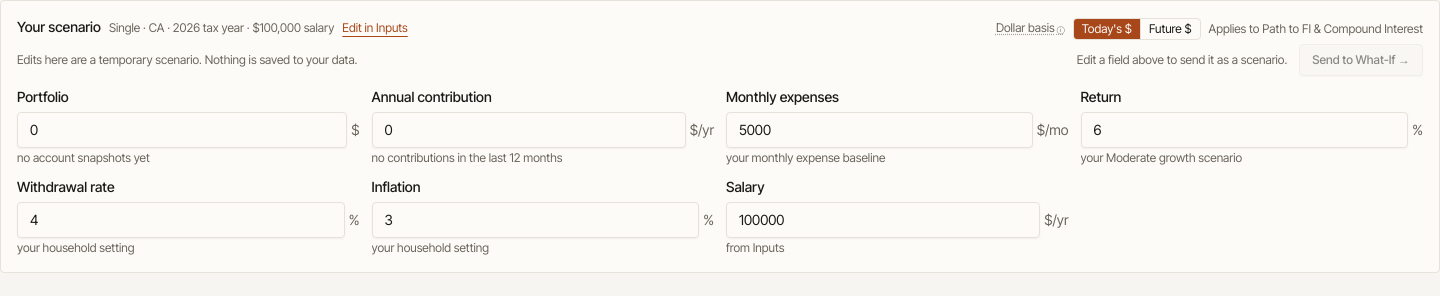
Scenario: ScenarioBar › an edited field shows the visible "edited — reset" text tag (never color-only) and the Edited (n) count
Step 1. Replace the text in the number field labelled "Monthly expenses" with "6500" → (879, 130), box [726,112,1033,148]
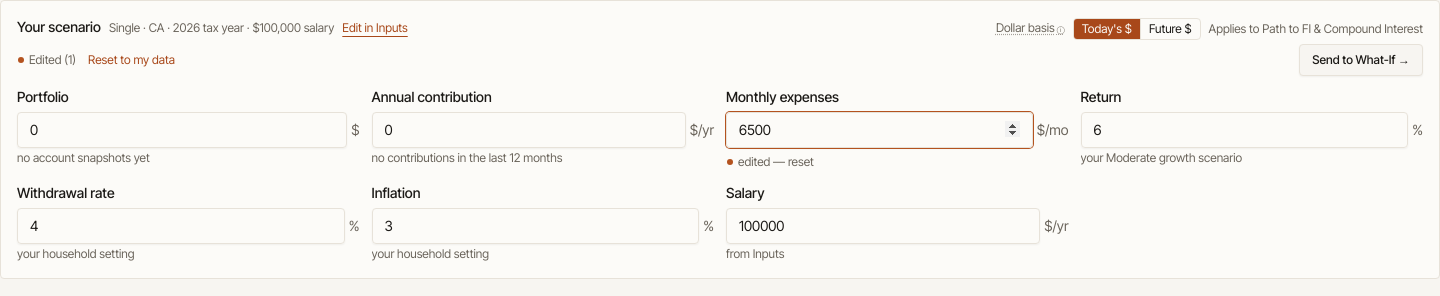
Check: the button with aria-label "Reset Monthly expenses to your data" is shown, box [726,154,814,170]
Check: the element with test id "scenario-edited-count" reads "Edited (1)", box [17,52,76,68]
